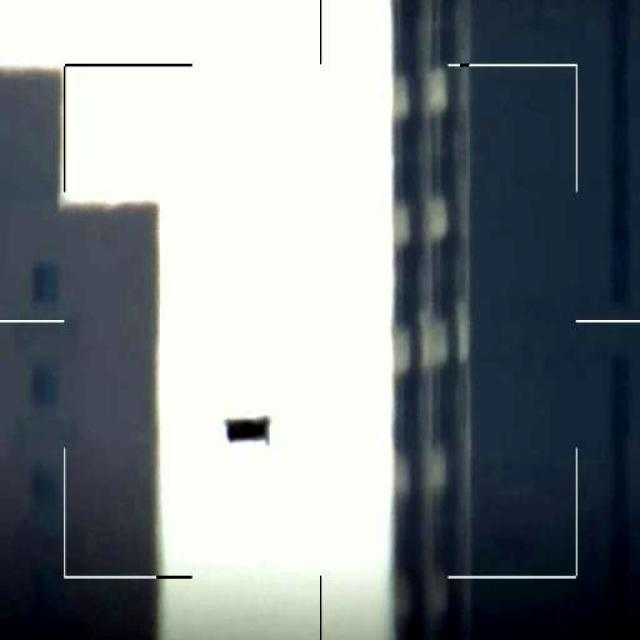bird: (221, 414, 275, 448)
